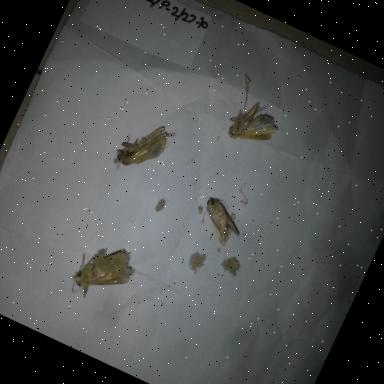abw: (62, 230, 146, 318), (106, 107, 182, 189), (217, 88, 290, 158), (188, 189, 254, 253)
